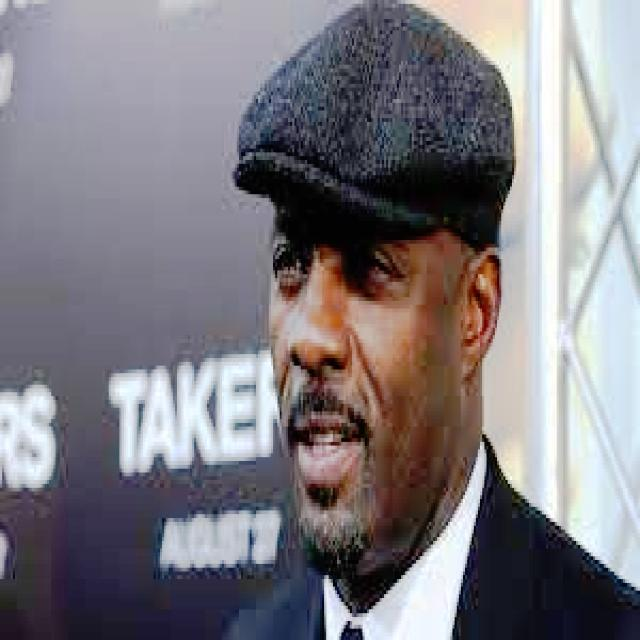TOPI: (226, 0, 516, 240)
